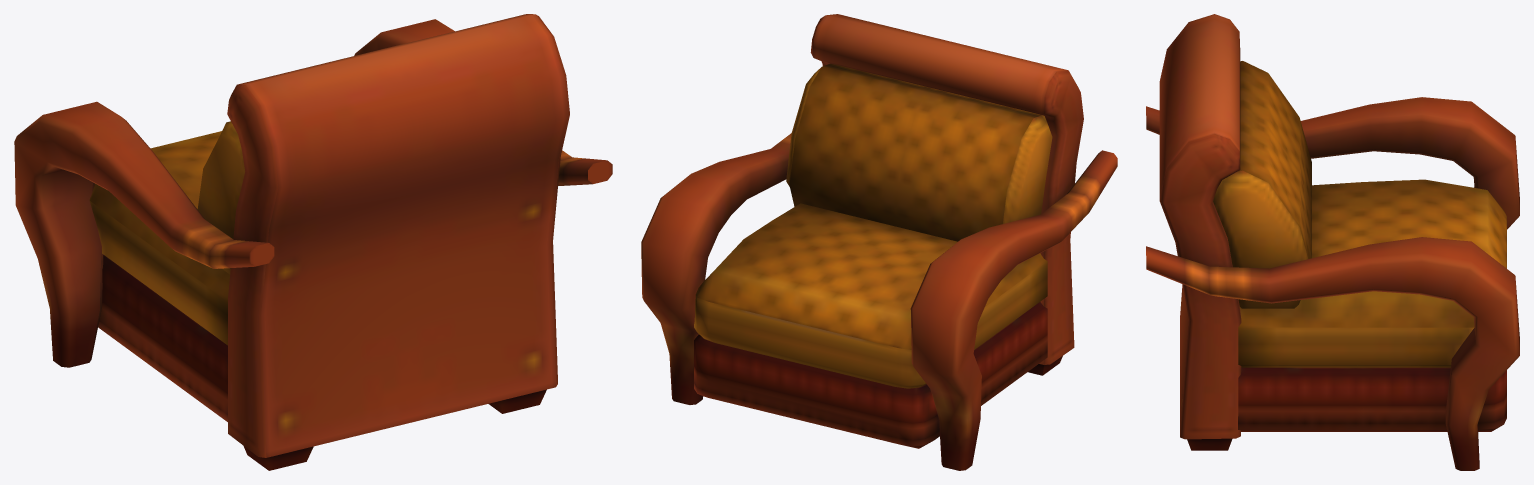
File: Sofa_02a.gltf
3 views of the same model, side by side, from view 1: azimuth 30°, elevation 25°; view 2: azimuth 150°, elevation 25°; view 3: azimuth 270°, elevation 25° (orthographic). The views are drawn at different scales.
Parts seen in each view (by area): view 1: Sofa_02a; view 2: Sofa_02a; view 3: Sofa_02a.
Part boxes in pixels (x1,y1,x2,y2): Sofa_02a: (14, 14, 612, 470); Sofa_02a: (641, 14, 1117, 470); Sofa_02a: (1146, 14, 1519, 470).
Bounding box in the file's own units: 39.76 × 35.69 × 37.67.
Materials: 1 (1 with a texture image).
